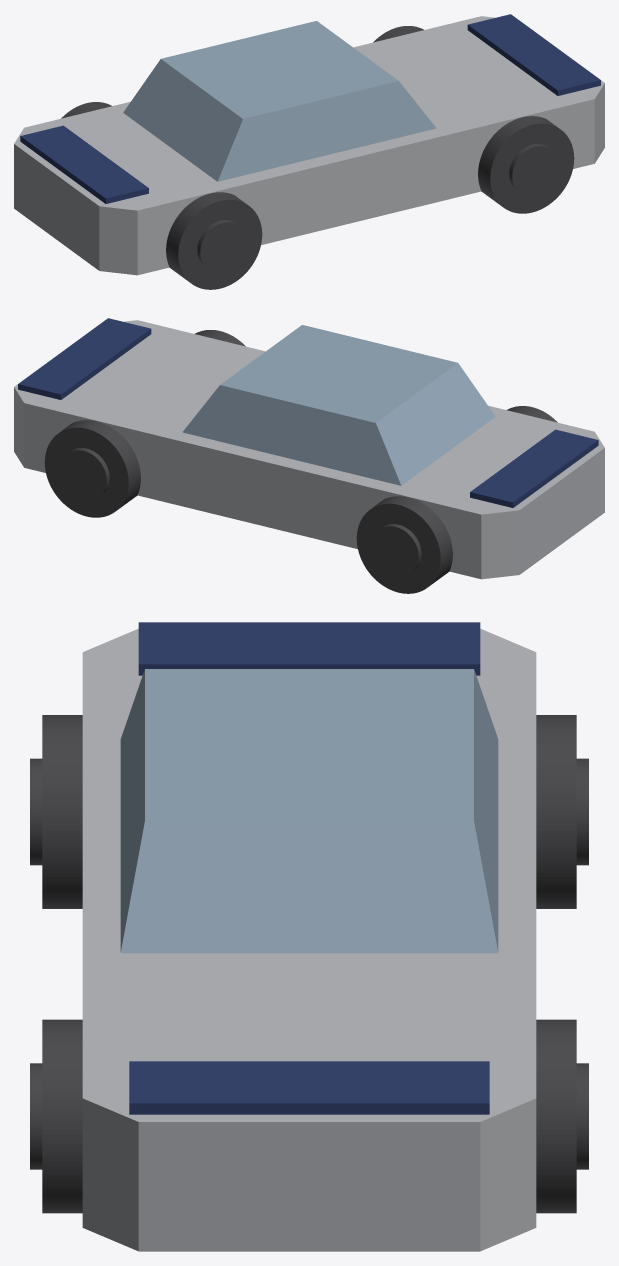
3 renders of one model, top to bottom at view 1: azimuth 30°, elevation 25°; view 2: azimuth 150°, elevation 25°; view 3: azimuth 270°, elevation 25°, orthographic. The views are drawn at different scales.
Visible parts, largest first — view 1: chassis, cabin, wheel_rr, wheel_fr, solar_hood, solar_deck; view 2: chassis, cabin, wheel_rl, wheel_fl, solar_hood, solar_deck; view 3: chassis, cabin, solar_hood, solar_deck, wheel_fl, wheel_fr, wheel_rl, wheel_rr.
Part boxes in pixels (bbox=[...]): chassis: bbox=[14, 16, 604, 275]; cabin: bbox=[123, 21, 436, 181]; wheel_rr: bbox=[166, 192, 262, 289]; wheel_fr: bbox=[478, 116, 574, 213]; solar_hood: bbox=[467, 14, 600, 95]; solar_deck: bbox=[20, 125, 148, 203]; chassis: bbox=[14, 320, 604, 579]; cabin: bbox=[182, 325, 495, 485]; wheel_rl: bbox=[356, 496, 452, 593]; wheel_fl: bbox=[44, 420, 140, 517]; solar_hood: bbox=[18, 318, 151, 399]; solar_deck: bbox=[470, 429, 598, 507]; chassis: bbox=[82, 628, 536, 1251]; cabin: bbox=[120, 669, 498, 953]; solar_hood: bbox=[129, 1061, 489, 1114]; solar_deck: bbox=[138, 622, 480, 675]; wheel_fl: bbox=[536, 1019, 588, 1213]; wheel_fr: bbox=[30, 1019, 82, 1213]; wheel_rl: bbox=[536, 715, 588, 908]; wheel_rr: bbox=[30, 715, 82, 908].
Size of the model in its own units: 9.4 by 2.47 by 4.5.
